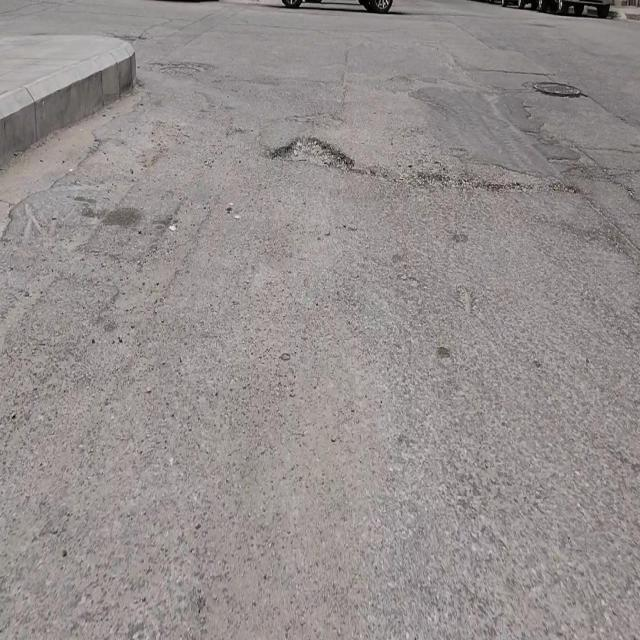Pothole: (268, 129, 358, 172)
